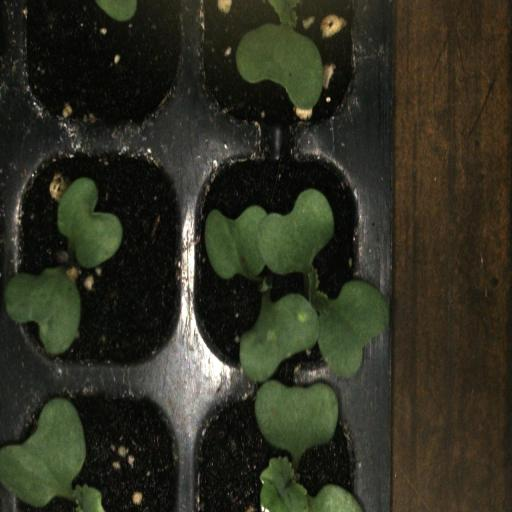seedling: (12, 141, 188, 381), (188, 384, 368, 512)
twoseedling: (188, 138, 368, 382)
